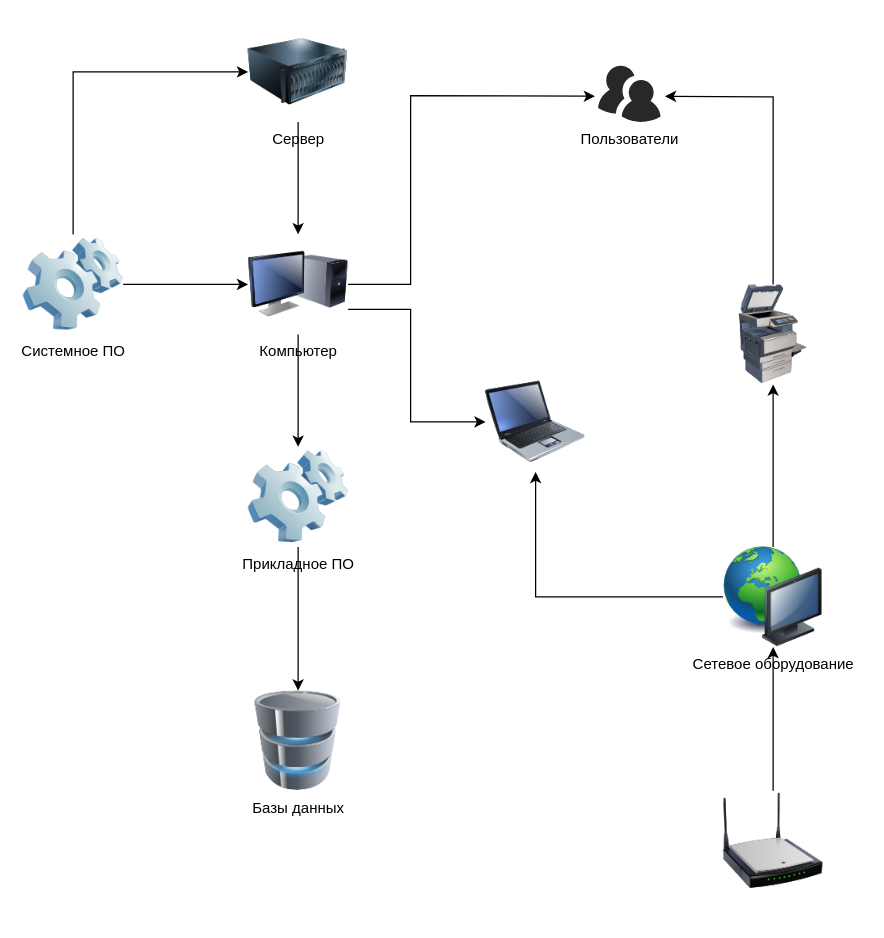
This 884x938 diagram has some shape labels left out. Here are the shapes that lost their labels. From the top down, the centre of each, then its label:
pixel 772 334: Складское оборудование
pixel 535 421: Офисное оборудование
pixel 772 840: Wi-Fi
